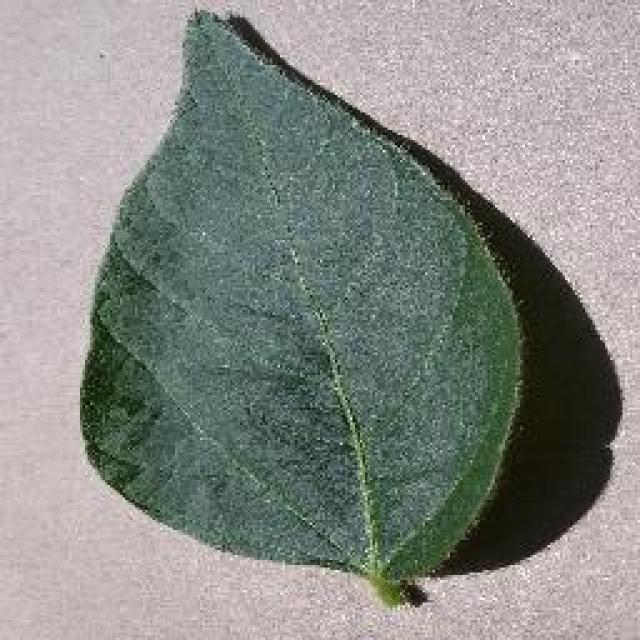Soy_healthy: (76, 42, 482, 536)
